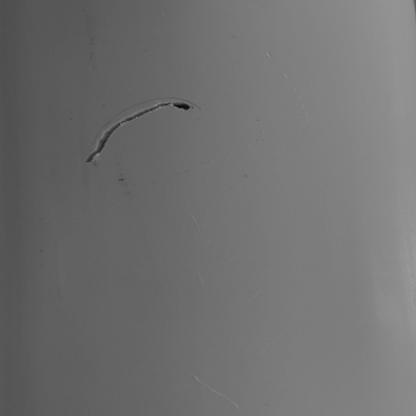fengxi: (84, 100, 193, 163)
